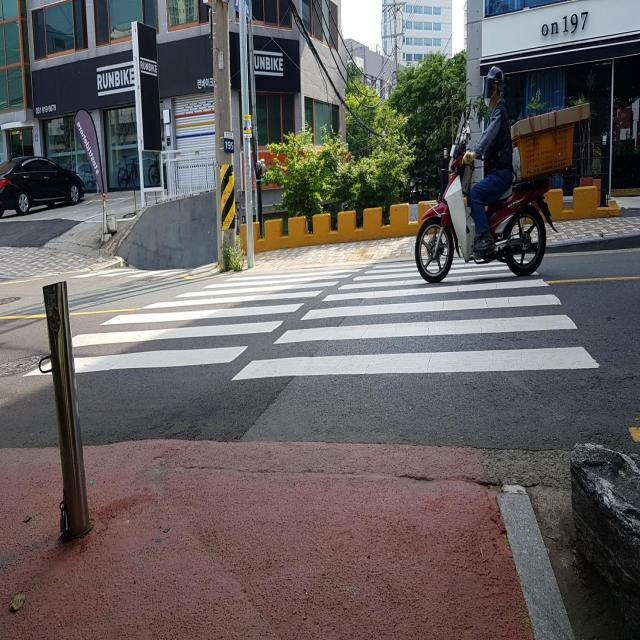횡단보도: (21, 255, 601, 382)
